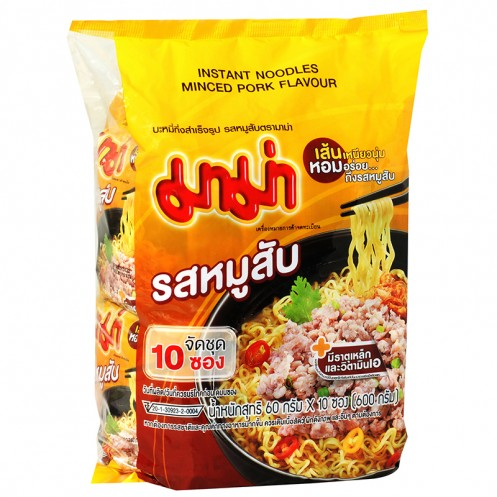Snack: (61, 6, 430, 491)
